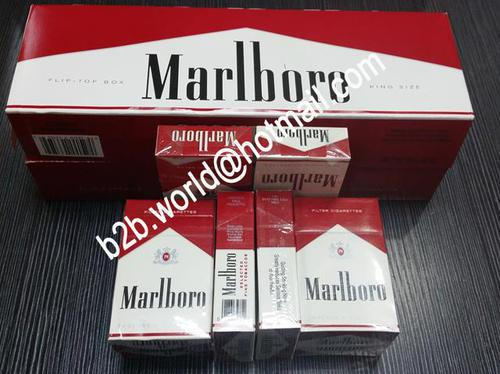marlboro: (294, 199, 391, 334), (118, 203, 213, 340)
